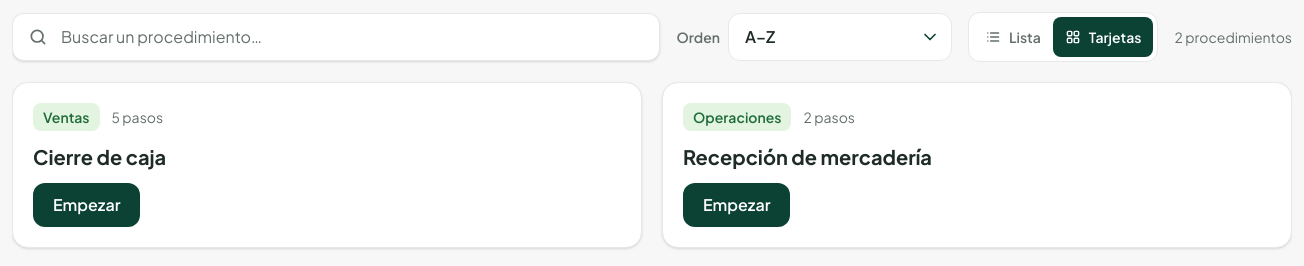
starting or resuming › a double click starts only once and every button waits
Double-click the button "Empezar" below "Ventas".
double_click(87, 205)  # box [33,183,140,227]
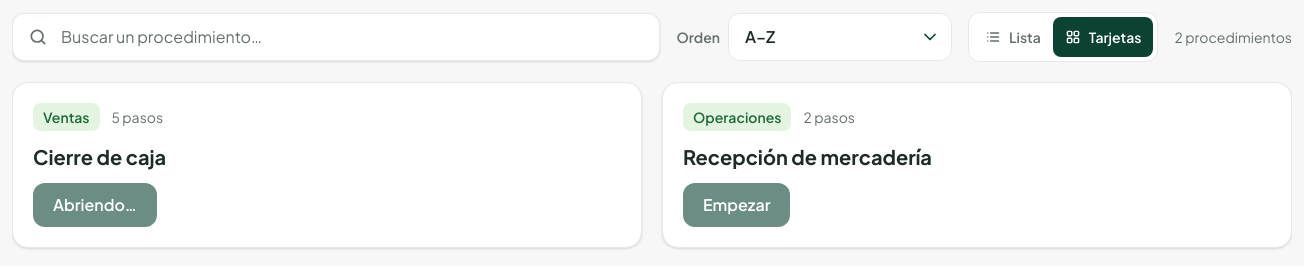
Expected: the button "Abriendo…" is disabled, [33,183,157,227]
Expected: the button "Abriendo…" is shown, [33,183,157,227]
Expected: the button "Empezar" is disabled, [683,183,790,227]
